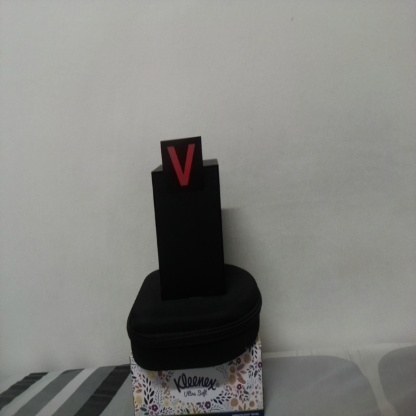id_11: (160, 140, 204, 192)
